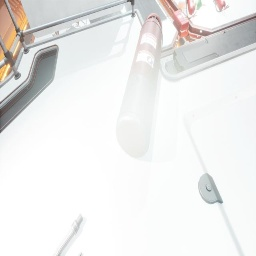0: (178, 0, 206, 10)
FireExtinguisher ]: (186, 0, 197, 19), (212, 0, 229, 12)
FirstAidBox ,: (172, 10, 189, 38)
NitrogenTank ,: (115, 13, 163, 158)
